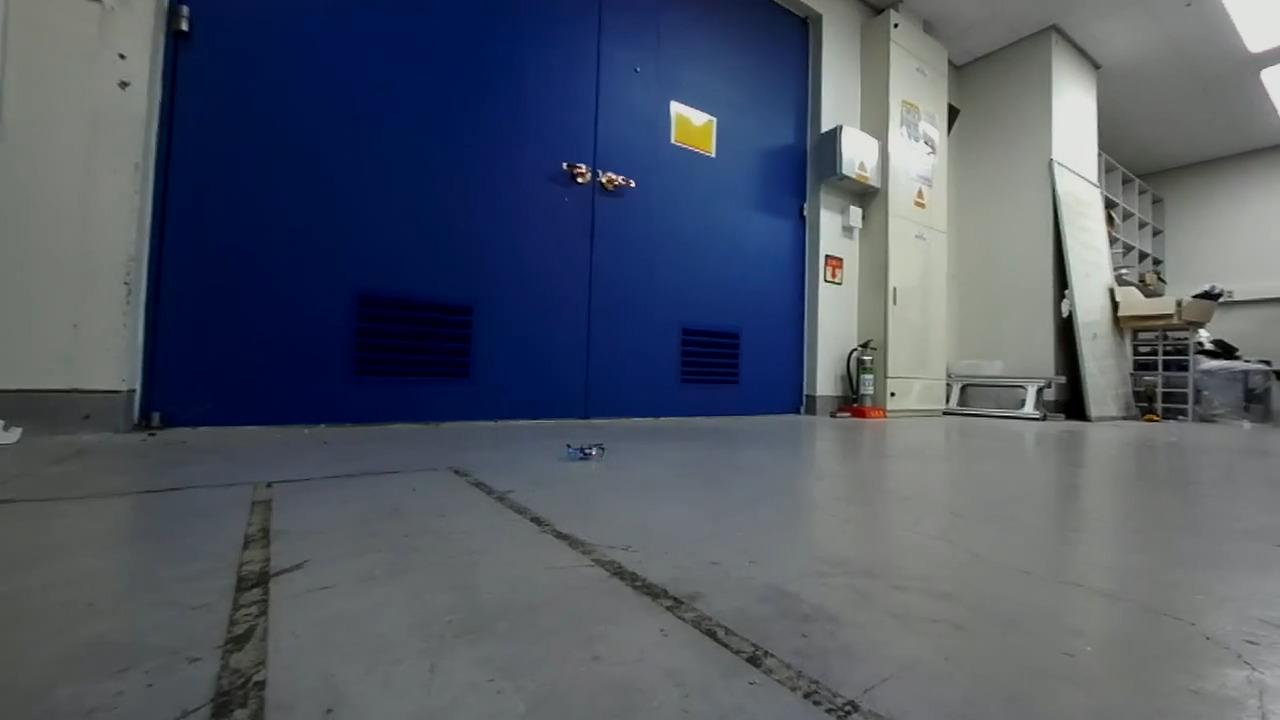crazyflie: (558, 436, 613, 466)
